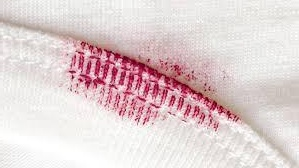lipstick: (65, 36, 241, 130)
